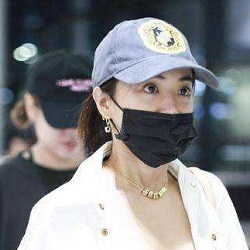mask: (103, 65, 198, 167)
